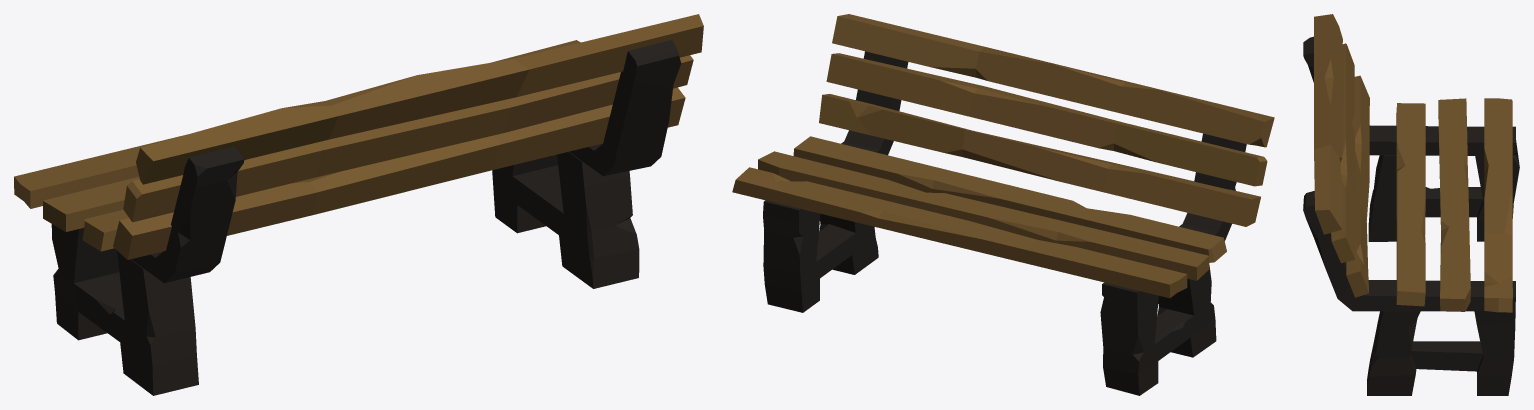
File: furn_bench.glb
The picture shows the model from 3 angles, left to right: view 1: azimuth 30°, elevation 25°; view 2: azimuth 150°, elevation 25°; view 3: azimuth 270°, elevation 25°; orthographic projection. The views are drawn at different scales.
Parts seen in each view (by area): view 1: Cube_Metal_0; view 2: Cube_Metal_0; view 3: Cube_Metal_0.
Boxes of the visible parts, x1,y1,x2,y2 form: Cube_Metal_0: (14, 14, 703, 395); Cube_Metal_0: (732, 14, 1274, 395); Cube_Metal_0: (1303, 14, 1519, 395).
Size of the model in its own units: 2.04 by 0.9626 by 0.9299.
Materials: 1 (1 with a texture image).
